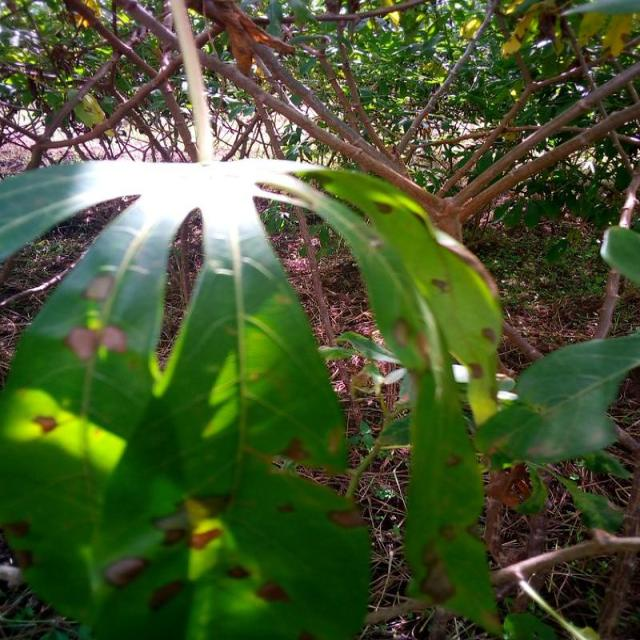cassava leaf: (1, 181, 373, 638), (474, 330, 638, 468)
